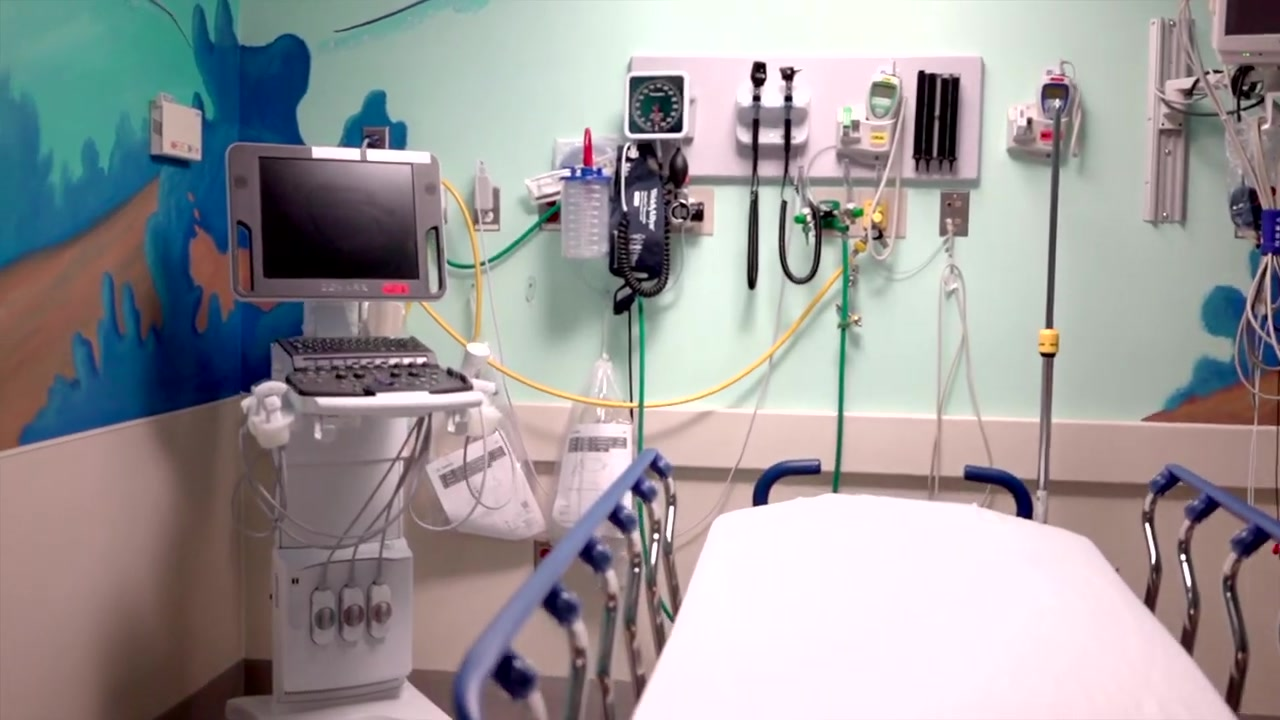bedrail: (451, 447, 683, 720), (1141, 463, 1280, 720)
bedside_monitor: (222, 139, 464, 301), (1217, 1, 1280, 60)
hospital_bed: (449, 445, 1280, 720)
iv_pole: (1031, 87, 1080, 524)
keyboard: (280, 334, 434, 361)
